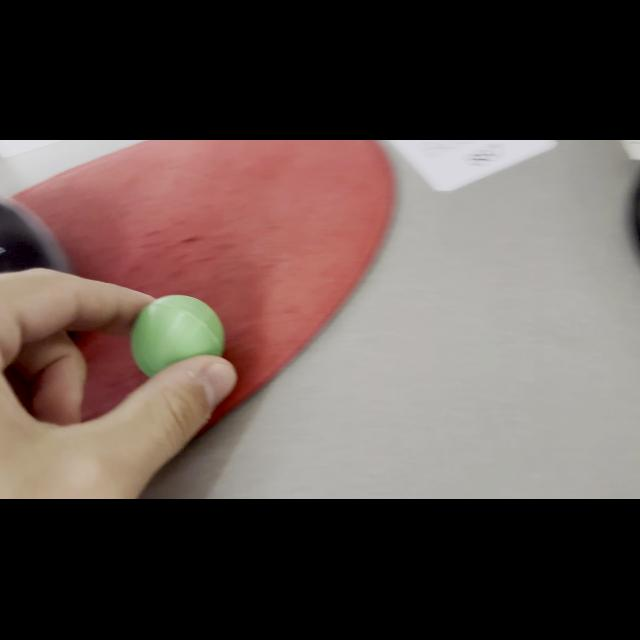objects: (124, 288, 223, 384)
